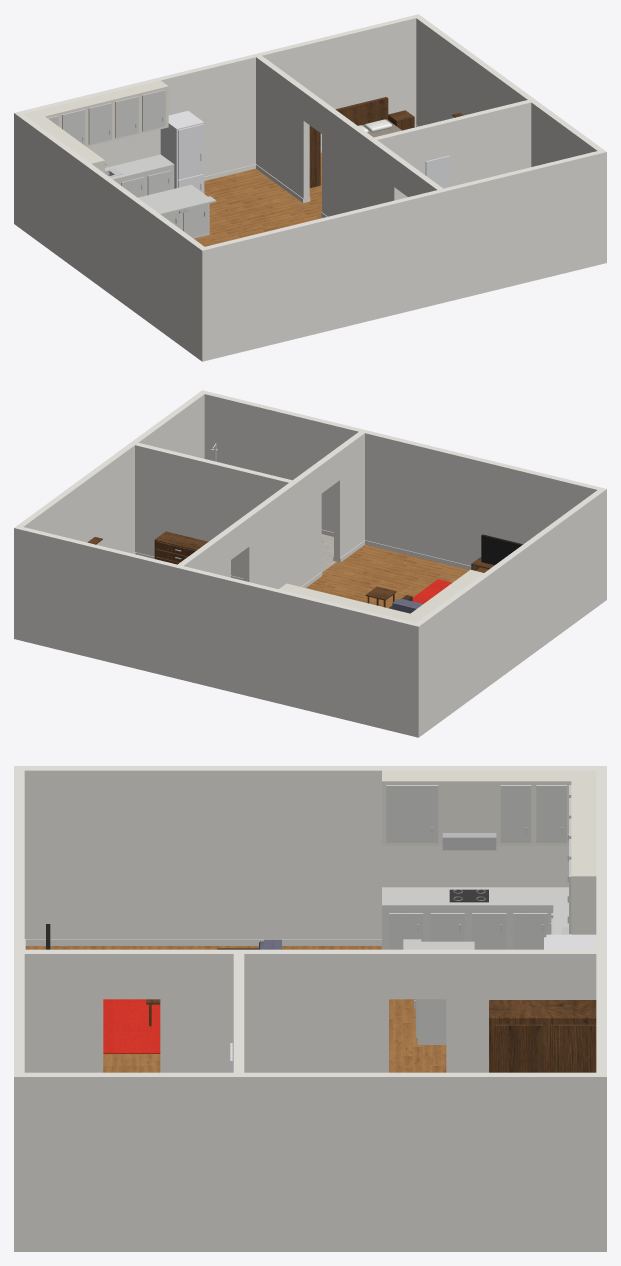
Rendered from apartment_static.fbx.
3 views of the same model, one above another, from view 1: azimuth 30°, elevation 25°; view 2: azimuth 150°, elevation 25°; view 3: azimuth 270°, elevation 25° (orthographic). The views are drawn at different scales.
Visible parts, largest first — view 1: Wall_South, Wall_West, Wall_North, Wall_East, Wall_Horiz, Wall_Vert_Seg1, Floor, Wall_Vert_Seg2, UpperCab_North, FridgeDoor_Top, Fridge, Cabinet_North (+13 smaller); view 2: Wall_North, Wall_South, Wall_West, Wall_Horiz, Wall_East, Wall_Vert_Seg1, Floor, Wall_Vert_Seg0, Wall_Vert_Seg2, UpperCab_North, TV, Wall_Vert_AboveDoor1 (+3 smaller); view 3: Wall_East, Wall_West, Wall_Vert_Seg1, Wall_Vert_Seg2, Wall_Vert_Seg0, Wall_North, Wall_South, Floor, Cabinet_West, UpperCab_North, UpperCab_West_Top, Wardrobe (+20 smaller).
Boxes of the visible parts, x1=… form: Wall_South: x1=199, y1=149, x2=606, y2=361; Wall_West: x1=17, y1=114, x2=204, y2=358; Wall_North: x1=14, y1=14, x2=421, y2=225; Wall_East: x1=416, y1=17, x2=603, y2=166; Wall_Horiz: x1=371, y1=100, x2=531, y2=198; Wall_Vert_Seg1: x1=322, y1=104, x2=400, y2=216; Floor: x1=194, y1=152, x2=322, y2=246; Wall_Vert_Seg2: x1=256, y1=56, x2=309, y2=202; UpperCab_North: x1=24, y1=80, x2=168, y2=147; FridgeDoor_Top: x1=178, y1=124, x2=203, y2=179; Fridge: x1=160, y1=111, x2=204, y2=193; Cabinet_North: x1=105, y1=154, x2=174, y2=195; Wall_North: x1=14, y1=525, x2=421, y2=737; Wall_South: x1=199, y1=390, x2=606, y2=601; Wall_West: x1=416, y1=490, x2=603, y2=734; Wall_Horiz: x1=135, y1=442, x2=294, y2=578; Wall_East: x1=17, y1=393, x2=204, y2=553; Wall_Vert_Seg1: x1=243, y1=463, x2=321, y2=589; Floor: x1=306, y1=544, x2=469, y2=608; Wall_Vert_Seg0: x1=334, y1=432, x2=364, y2=562; Wall_Vert_Seg2: x1=178, y1=529, x2=230, y2=577; UpperCab_North: x1=279, y1=583, x2=423, y2=622; TV: x1=481, y1=534, x2=522, y2=565; Wall_Vert_AboveDoor1: x1=225, y1=516, x2=249, y2=559; Wall_East: x1=24, y1=1072, x2=596, y2=1251; Wall_West: x1=24, y1=766, x2=596, y2=938; Wall_Vert_Seg1: x1=160, y1=949, x2=388, y2=1072; Wall_Vert_Seg2: x1=446, y1=949, x2=596, y2=1072; Wall_Vert_Seg0: x1=24, y1=949, x2=103, y2=1072; Wall_North: x1=596, y1=766, x2=606, y2=1251; Wall_South: x1=14, y1=766, x2=24, y2=1251; Floor: x1=25, y1=946, x2=446, y2=1072; Cabinet_West: x1=382, y1=887, x2=553, y2=949; UpperCab_North: x1=571, y1=770, x2=596, y2=934; UpperCab_West_Top: x1=442, y1=770, x2=496, y2=832; Wardrobe: x1=489, y1=1000, x2=596, y2=1072.
Size of the model in its own units: 1030 by 270 by 830.
Materials: 37 (14 with a texture image).
